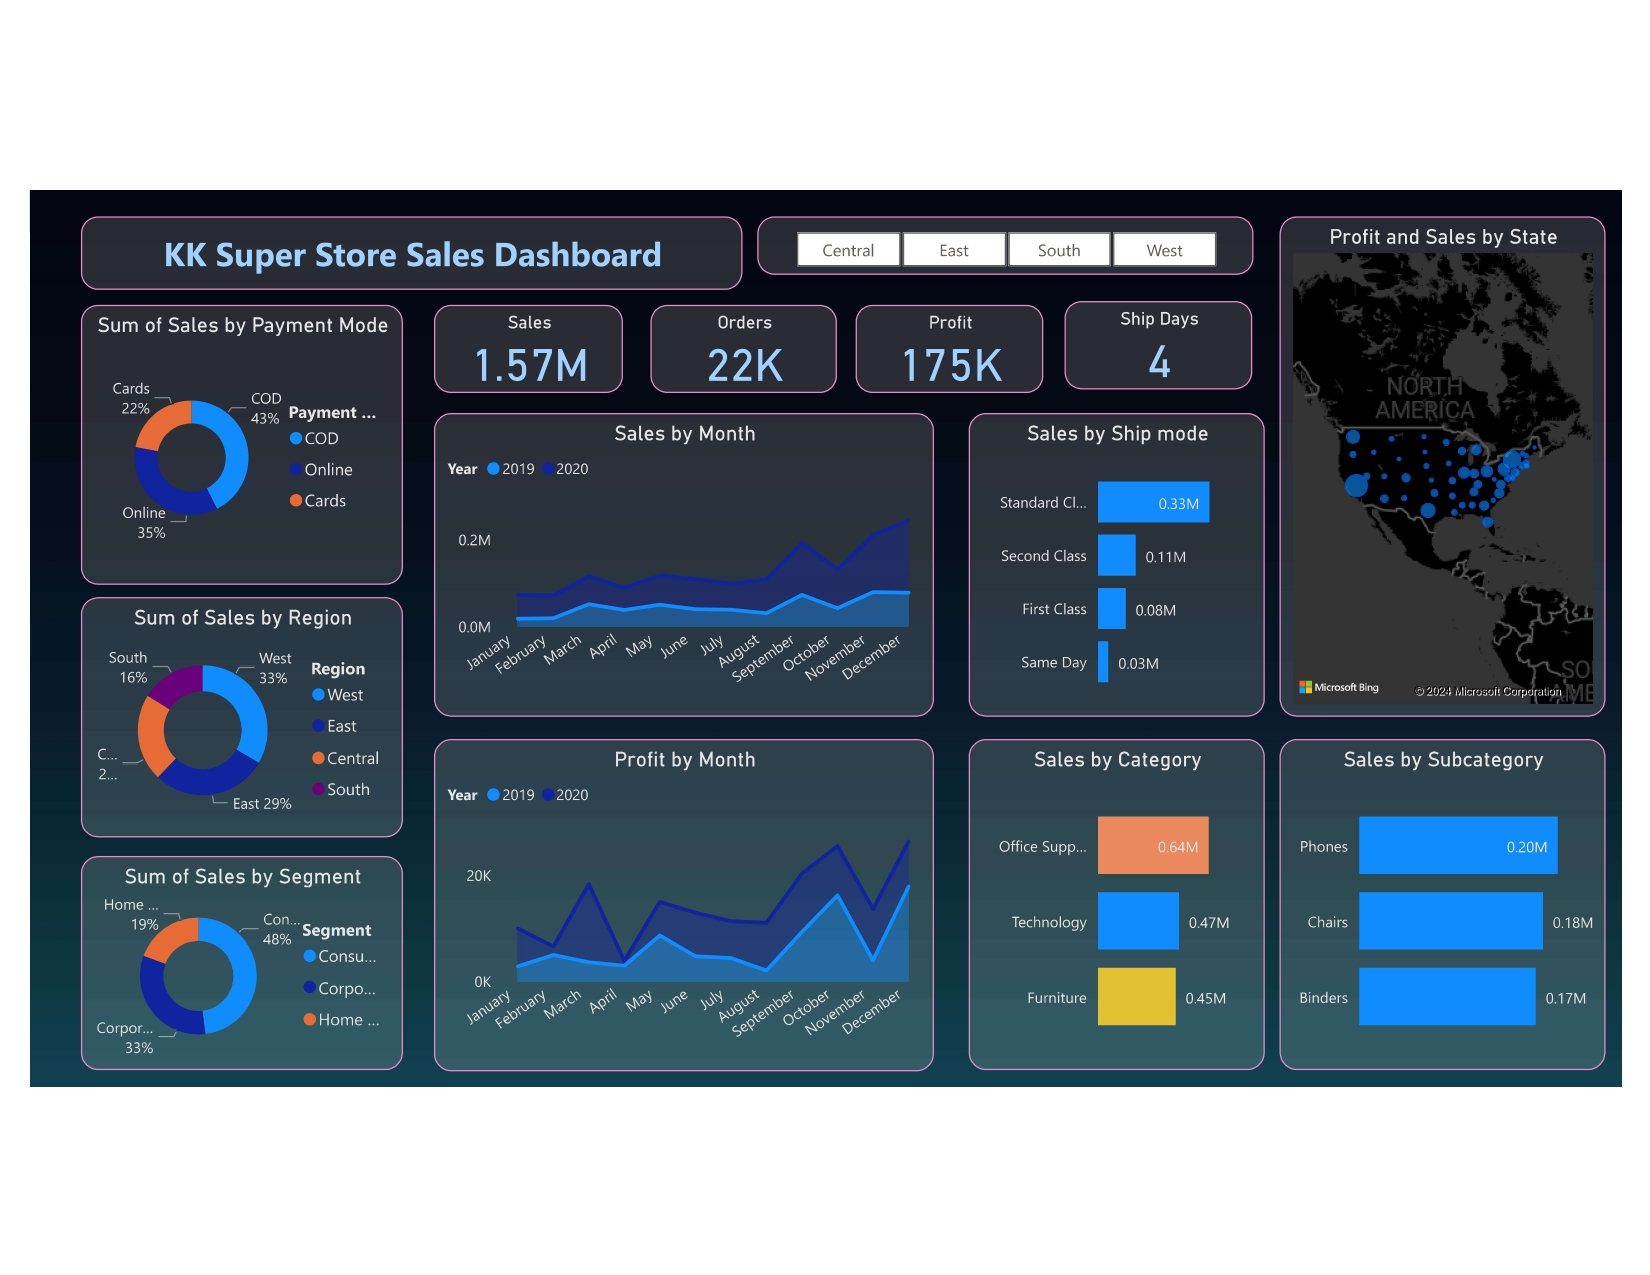

Layout of this report page (visuals, bound fields, positions):
{"tool":"powerbi","page":{"name":"Page 1","canvas":[1280,720],"ordinal":0},"visuals":[{"type":"clusteredBarChart","title":"Sales by Category","fields":{"Category":["SuperStore_Sales_Dataset.Category"],"Y":["Sum(SuperStore_Sales_Dataset.Sales)"]},"box":[754.7,441.3,238.7,265.3],"z":0},{"type":"clusteredBarChart","title":"Sales by Subcategory","fields":{"Y":["Sum(SuperStore_Sales_Dataset.Sales)"],"Category":["SuperStore_Sales_Dataset.Sub-Category"]},"box":[1005.3,441.3,261.3,265.3],"z":1000},{"type":"clusteredBarChart","title":"Sales by Ship mode","fields":{"Y":["Sum(SuperStore_Sales_Dataset.Sales)"],"Category":["SuperStore_Sales_Dataset.Ship Mode"]},"box":[754.7,178.7,238.7,244],"z":2000},{"type":"stackedAreaChart","title":"Sales by Month","fields":{"Category":["SuperStore_Sales_Dataset.Order Date.Variation.Date Hierarchy.Month","SuperStore_Sales_Dataset.Order Date.Variation.Date Hierarchy.Day"],"Y":["Sum(SuperStore_Sales_Dataset.Sales)"],"Series":["SuperStore_Sales_Dataset.Order Date.Variation.Date Hierarchy.Year"]},"box":[325.3,178.7,401.3,244],"z":3000},{"type":"stackedAreaChart","title":"Profit by Month","fields":{"Category":["SuperStore_Sales_Dataset.Order Date.Variation.Date Hierarchy.Month","SuperStore_Sales_Dataset.Order Date.Variation.Date Hierarchy.Day"],"Series":["SuperStore_Sales_Dataset.Order Date.Variation.Date Hierarchy.Year"],"Y":["Sum(SuperStore_Sales_Dataset.Profit)"]},"box":[325.3,441.3,401.3,266.7],"z":4000},{"type":"map","title":"Profit and Sales by State","fields":{"Category":["SuperStore_Sales_Dataset.State"],"Size":["Sum(SuperStore_Sales_Dataset.Sales)"]},"box":[1005.3,21.3,261.3,401.3],"z":5000},{"type":"donutChart","fields":{"Y":["Sum(SuperStore_Sales_Dataset.Sales)"],"Category":["SuperStore_Sales_Dataset.Region"]},"box":[41.3,326.7,258.7,193.3],"z":6000},{"type":"donutChart","fields":{"Y":["Sum(SuperStore_Sales_Dataset.Sales)"],"Category":["SuperStore_Sales_Dataset.Payment Mode"]},"box":[41.3,92,258.7,225.3],"z":7000},{"type":"donutChart","fields":{"Category":["SuperStore_Sales_Dataset.Segment"],"Y":["Sum(SuperStore_Sales_Dataset.Sales)"]},"box":[41.3,534.7,258.7,172],"z":8000},{"type":"slicer","fields":{"Values":["SuperStore_Sales_Dataset.Region"]},"box":[585.3,21.3,398.7,46.7],"z":9000},{"type":"textbox","box":[41.3,21.3,532,58.7],"z":10000},{"type":"card","title":"Sales","fields":{"Values":["Sum(SuperStore_Sales_Dataset.Sales)"]},"box":[325.3,92,152,70.7],"z":10001},{"type":"card","title":"Profit","fields":{"Values":["Sum(SuperStore_Sales_Dataset.Profit)"]},"box":[664,92,150.7,70.7],"z":10002},{"type":"card","title":"Orders","fields":{"Values":["Sum(SuperStore_Sales_Dataset.Quantity)"]},"box":[498.7,92,150.7,70.7],"z":10003},{"type":"card","title":"Ship Days","fields":{"Values":["Avg(SuperStore_Sales_Dataset.AvgDelivery)"]},"box":[832,89.3,150.7,70.7],"z":10004}]}

Visuals, with their boxes in screenshot pixels (x1, y1, x2, y2):
"Sales by Category" clusteredBarChart: 965, 736, 1279, 1086
"Sales by Subcategory" clusteredBarChart: 1295, 736, 1639, 1086
"Sales by Ship mode" clusteredBarChart: 965, 390, 1279, 712
"Sales by Month" stackedAreaChart: 399, 390, 928, 712
"Profit by Month" stackedAreaChart: 399, 736, 928, 1088
"Profit and Sales by State" map: 1295, 183, 1639, 712
donutChart - Sum(SuperStore_Sales_Dataset.Sales) x SuperStore_Sales_Dataset.Region: 24, 585, 365, 840
donutChart - Sum(SuperStore_Sales_Dataset.Sales) x SuperStore_Sales_Dataset.Payment Mode: 24, 276, 365, 573
donutChart - SuperStore_Sales_Dataset.Segment x Sum(SuperStore_Sales_Dataset.Sales): 24, 859, 365, 1086
slicer - SuperStore_Sales_Dataset.Region: 741, 183, 1267, 244
textbox: 24, 183, 726, 260
"Sales" card: 399, 276, 599, 369
"Profit" card: 845, 276, 1044, 369
"Orders" card: 627, 276, 826, 369
"Ship Days" card: 1066, 272, 1265, 366
